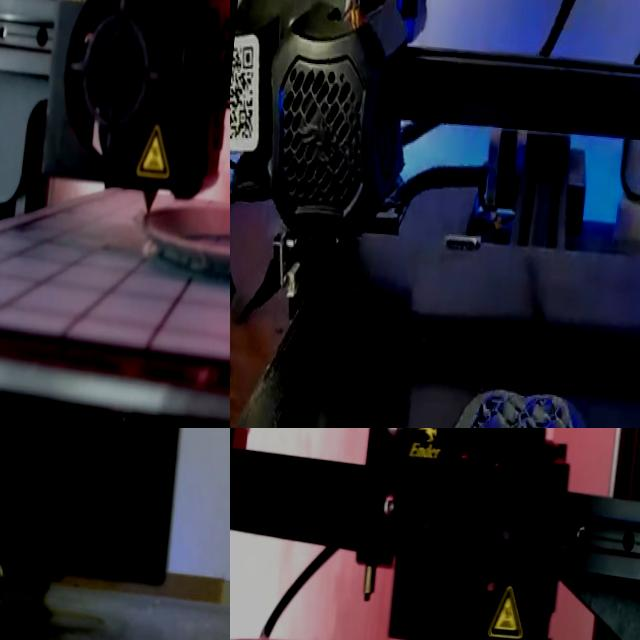spaghetti: (0, 562, 59, 637)
